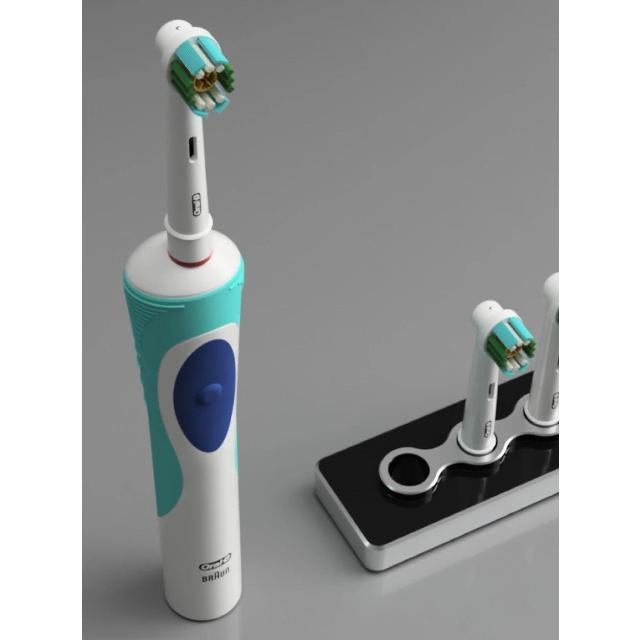toothbrush: (81, 0, 297, 640)
